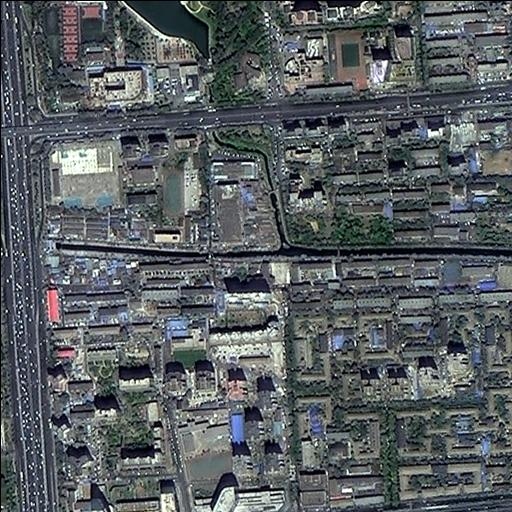school: (150, 124, 207, 254), (277, 23, 371, 93), (165, 406, 237, 479), (163, 315, 211, 368), (438, 254, 497, 292)
